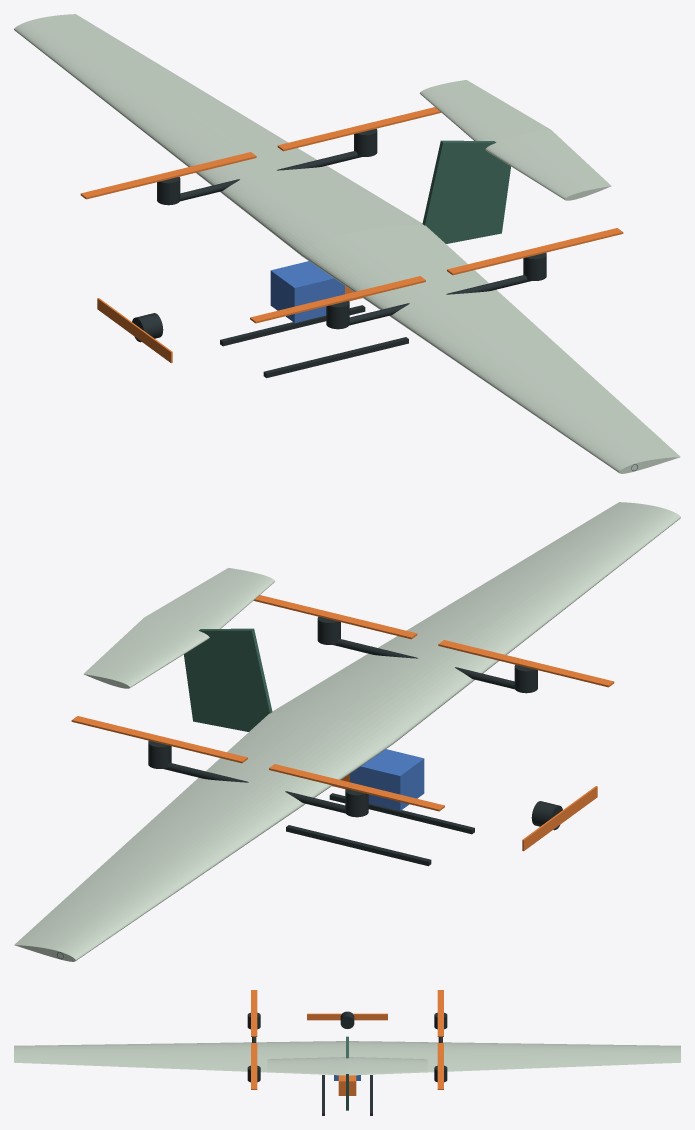
File: 11-internal.glb
3 views of the same model, one above another, from view 1: azimuth 30°, elevation 25°; view 2: azimuth 150°, elevation 25°; view 3: azimuth 270°, elevation 25° (orthographic). The views are drawn at different scales.
Parts seen in each view (by area): view 1: wing-1, wing1, fin, tail-1, tail1, payload, prop_-1_700.0, prop_1_230.0, prop_-1_230.0, prop_1_700.0, skid-1, boom-1 (+3 smaller); view 2: wing1, wing-1, fin, tail1, tail-1, payload, prop_-1_230.0, prop_1_700.0, prop_1_230.0, prop_-1_700.0, skid1, boom1 (+3 smaller); view 3: wing-1, wing1, tail-1, tail1, cruise_prop, battery, prop_-1_230.0, prop_-1_700.0, prop_1_230.0, prop_1_700.0, cruise_motor.
Part boxes in pixels (x1,y1,x2,y2): wing-1: (301, 225, 680, 473); wing1: (14, 14, 423, 255); fin: (422, 140, 510, 243); tail-1: (485, 129, 611, 200); tail1: (419, 80, 550, 141); payload: (270, 261, 344, 322); prop_-1_700.0: (447, 228, 623, 275); prop_1_230.0: (80, 152, 256, 199); prop_-1_230.0: (250, 276, 425, 323); prop_1_700.0: (277, 107, 441, 151); skid-1: (263, 337, 408, 378); boom-1: (349, 275, 530, 325); wing1: (14, 713, 393, 961); wing-1: (271, 502, 680, 743); fin: (184, 628, 272, 731); tail1: (83, 617, 209, 688); tail-1: (144, 568, 275, 629); payload: (350, 749, 424, 810); prop_-1_230.0: (438, 640, 614, 687); prop_1_700.0: (71, 716, 247, 763); prop_1_230.0: (269, 764, 444, 811); prop_-1_700.0: (253, 595, 417, 639); skid1: (286, 825, 431, 866); boom1: (164, 763, 345, 813); wing-1: (14, 1041, 345, 1075); wing1: (349, 1041, 680, 1075); tail-1: (267, 1057, 347, 1073); tail1: (347, 1057, 427, 1073); cruise_prop: (307, 1013, 387, 1020); battery: (338, 1075, 356, 1095); prop_-1_230.0: (251, 990, 257, 1036); prop_-1_700.0: (251, 1043, 257, 1089); prop_1_230.0: (437, 990, 443, 1036); prop_1_700.0: (437, 1043, 443, 1089); cruise_motor: (340, 1011, 354, 1028).
Size of the model in its own units: 994 by 390 by 2500.
